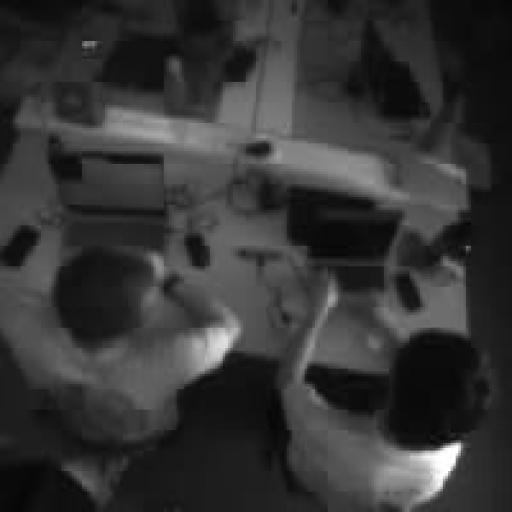human: (277, 272, 491, 511), (0, 246, 240, 445)
